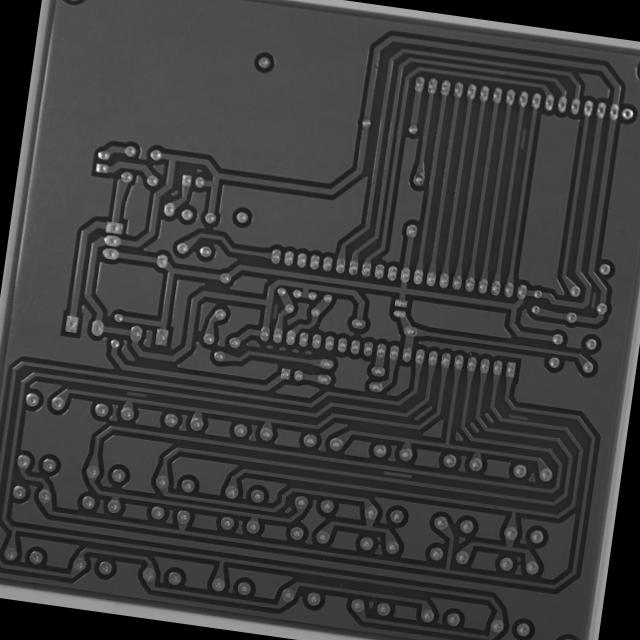spurious_copper: (378, 466, 416, 484), (505, 410, 534, 426), (516, 124, 532, 151), (586, 288, 602, 313), (123, 387, 149, 402)
